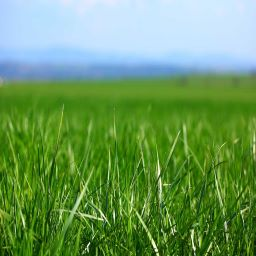grass: (2, 80, 252, 251)
